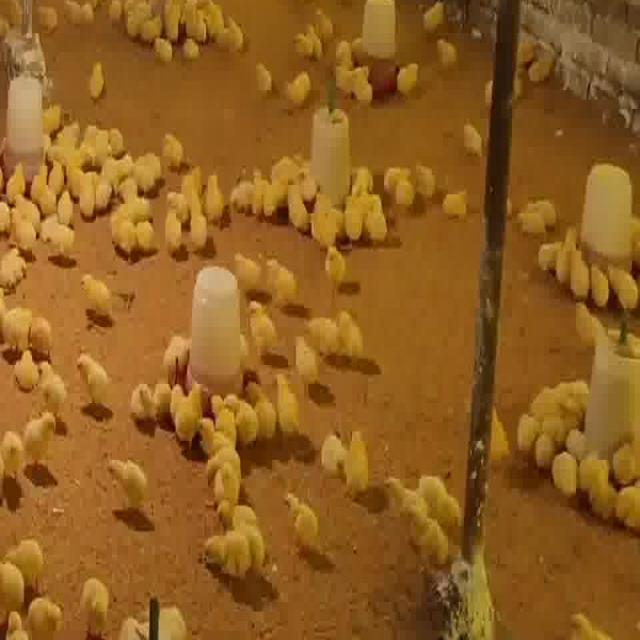poussin: (76, 350, 114, 422), (106, 454, 149, 513), (201, 537, 258, 578), (77, 266, 115, 326), (37, 354, 71, 420), (22, 415, 58, 474), (405, 510, 450, 555), (30, 580, 66, 636), (2, 194, 39, 248), (272, 371, 300, 442), (214, 502, 261, 544), (244, 381, 278, 439), (284, 490, 319, 545), (243, 303, 276, 361), (490, 416, 520, 479), (263, 255, 298, 308), (375, 479, 429, 511), (585, 462, 617, 516), (174, 384, 202, 445), (336, 306, 366, 362), (79, 575, 109, 629), (0, 424, 23, 494), (285, 180, 314, 233), (3, 306, 35, 354), (209, 388, 236, 444), (164, 2, 208, 36), (4, 536, 43, 574), (560, 611, 611, 640), (4, 589, 33, 640), (108, 212, 139, 259), (224, 395, 257, 439), (345, 432, 369, 491), (206, 448, 249, 480), (294, 331, 319, 385), (40, 213, 74, 252), (611, 260, 637, 311), (567, 252, 592, 304), (318, 437, 347, 480), (187, 198, 210, 252), (344, 192, 368, 243), (134, 147, 165, 186), (308, 312, 338, 352), (203, 172, 227, 222), (133, 379, 160, 422), (14, 348, 41, 390), (536, 386, 567, 422), (29, 312, 57, 351), (314, 198, 340, 240), (214, 466, 244, 502), (551, 455, 577, 496), (269, 158, 289, 211), (0, 252, 28, 288), (115, 188, 151, 216), (214, 23, 251, 50), (78, 162, 99, 209), (554, 377, 588, 406), (308, 7, 332, 48), (461, 121, 484, 163), (322, 246, 346, 286), (5, 160, 27, 203), (534, 422, 554, 469), (285, 72, 311, 108), (396, 55, 420, 94), (514, 408, 538, 447), (154, 379, 175, 423), (62, 2, 95, 30), (162, 212, 185, 252), (135, 218, 159, 256), (415, 162, 439, 200), (250, 162, 266, 218), (122, 158, 148, 192), (233, 248, 256, 286), (620, 482, 639, 528), (438, 192, 468, 221), (100, 152, 121, 193), (396, 174, 418, 213), (514, 208, 548, 233), (162, 131, 186, 166), (178, 167, 202, 202), (56, 189, 78, 227), (153, 33, 177, 67), (366, 200, 388, 237), (132, 12, 162, 39), (162, 167, 192, 194), (591, 266, 609, 311), (84, 125, 107, 159), (556, 238, 573, 284), (231, 178, 255, 210), (352, 66, 373, 102), (32, 174, 54, 208), (557, 410, 586, 435), (539, 242, 562, 272), (335, 56, 354, 92), (62, 125, 82, 159), (352, 165, 376, 193), (529, 198, 559, 220), (35, 8, 61, 33), (90, 62, 106, 101), (49, 155, 65, 194), (257, 59, 274, 95), (181, 34, 200, 65), (433, 37, 452, 68), (565, 429, 586, 456), (300, 32, 320, 59), (96, 177, 111, 213), (376, 165, 401, 186), (64, 154, 77, 192), (110, 122, 127, 151), (108, 0, 122, 30)
